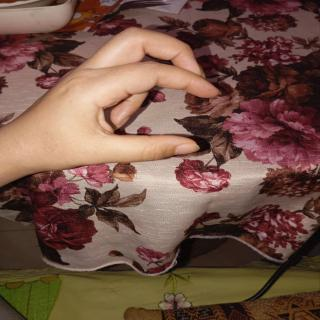DHELL: (0, 20, 240, 174)
